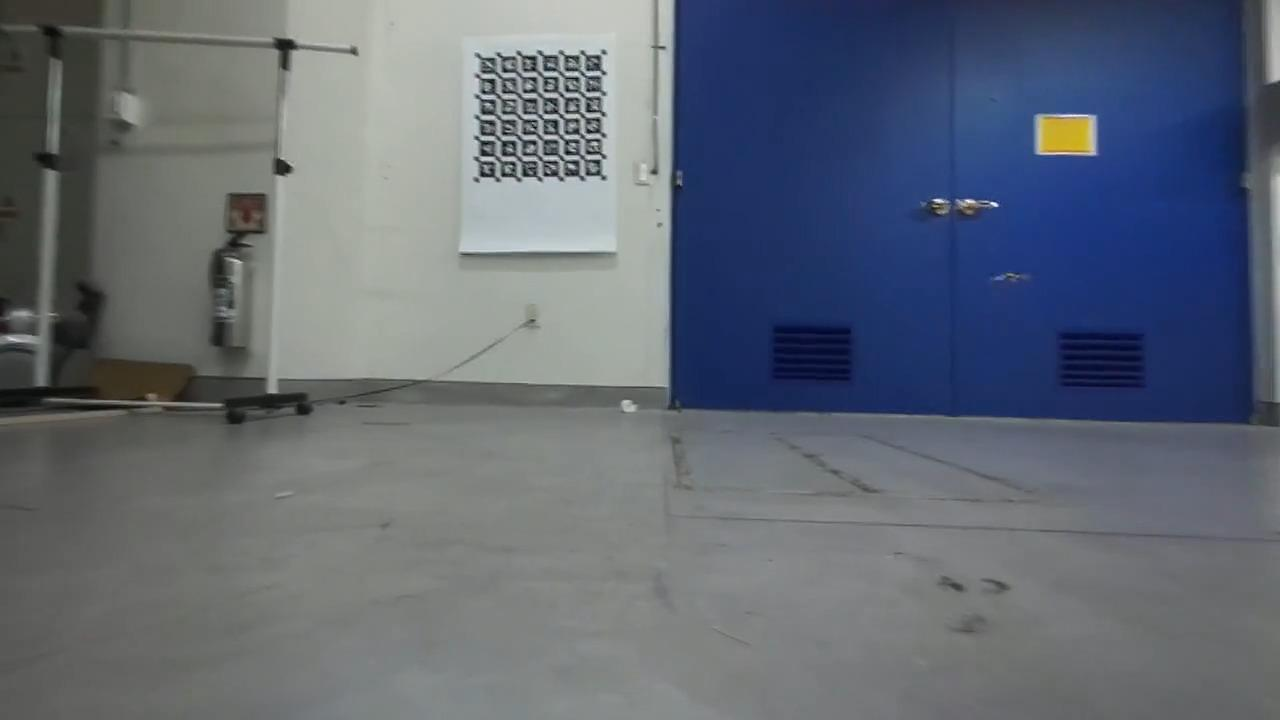crazyflie: (989, 268, 1031, 287)
